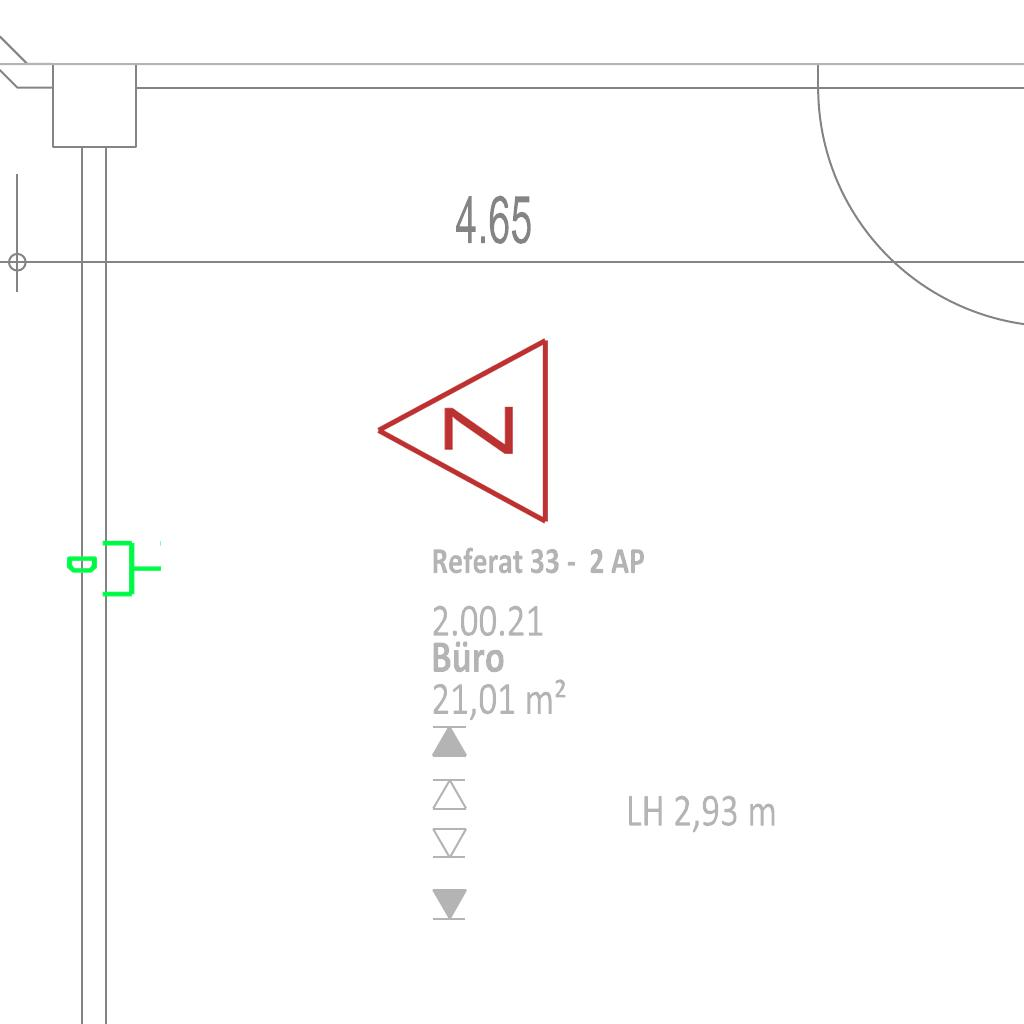Datenanschluss_einfach: (64, 536, 164, 605)
Zimmersignalleuchte: (363, 335, 563, 531)
